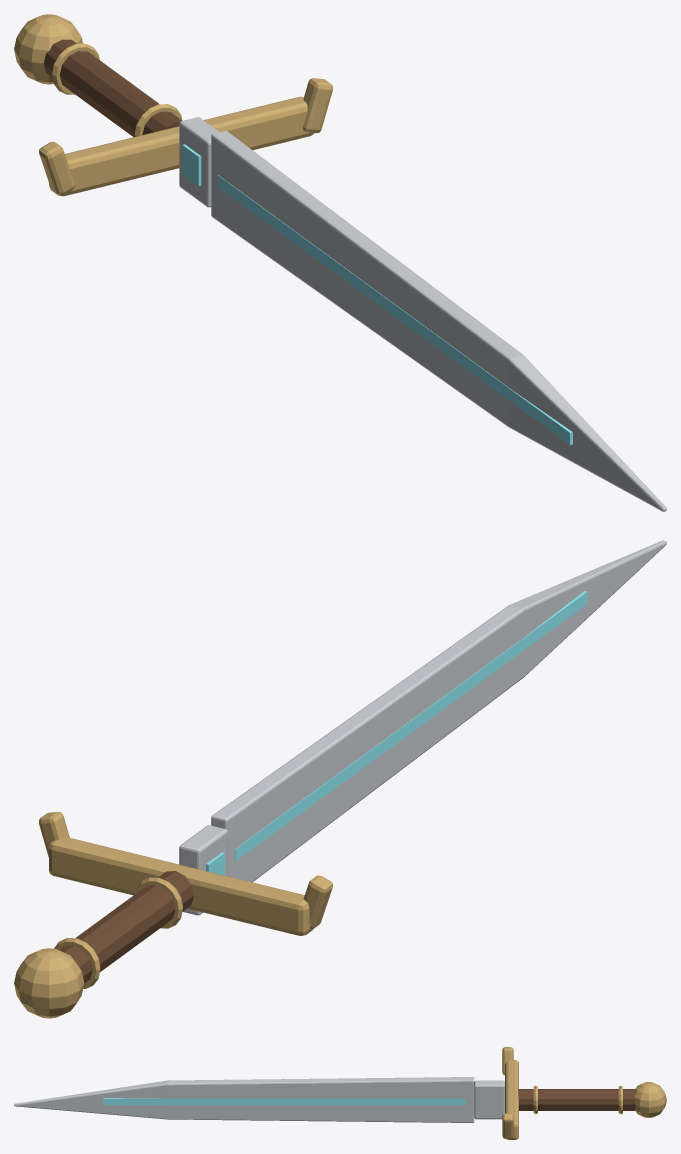
File: Epee_Longue.fbx
3 views of the same model, one above another, from view 1: azimuth 30°, elevation 25°; view 2: azimuth 150°, elevation 25°; view 3: azimuth 270°, elevation 25° (orthographic). The views are drawn at different scales.
Parts seen in each view (by area): view 1: Epee_Longue_Acier, Epee_Longue_Laiton, Epee_Longue_Noyau, Epee_Longue_Cuir; view 2: Epee_Longue_Acier, Epee_Longue_Laiton, Epee_Longue_Cuir, Epee_Longue_Noyau; view 3: Epee_Longue_Acier, Epee_Longue_Laiton, Epee_Longue_Noyau, Epee_Longue_Cuir.
Boxes of the visible parts, x1,y1,x2,y2 form: Epee_Longue_Acier: [179, 117, 666, 511]; Epee_Longue_Laiton: [14, 14, 332, 196]; Epee_Longue_Noyau: [182, 144, 572, 444]; Epee_Longue_Cuir: [43, 39, 182, 137]; Epee_Longue_Acier: [179, 540, 666, 915]; Epee_Longue_Laiton: [14, 812, 332, 1018]; Epee_Longue_Cuir: [59, 871, 193, 983]; Epee_Longue_Noyau: [206, 591, 587, 875]; Epee_Longue_Acier: [14, 1077, 504, 1122]; Epee_Longue_Laiton: [502, 1047, 666, 1139]; Epee_Longue_Noyau: [103, 1098, 465, 1105]; Epee_Longue_Cuir: [518, 1089, 635, 1110].
Bounding box in the file's own units: 123 × 33.98 × 468.
